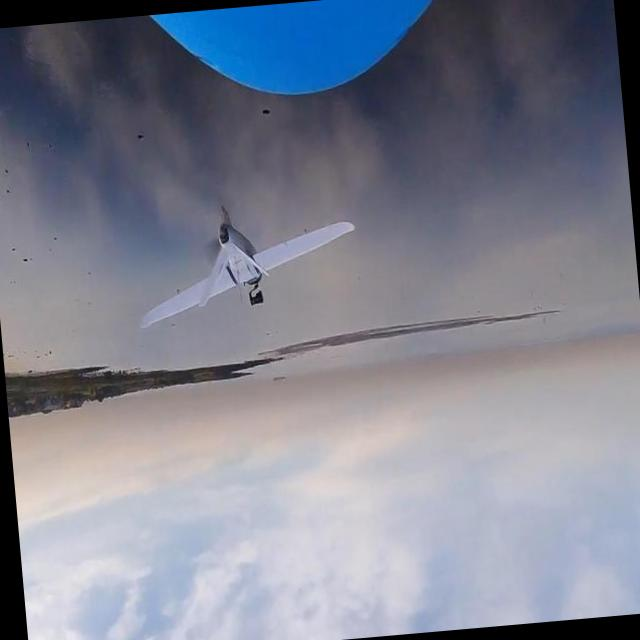UAV: (109, 157, 387, 349)
